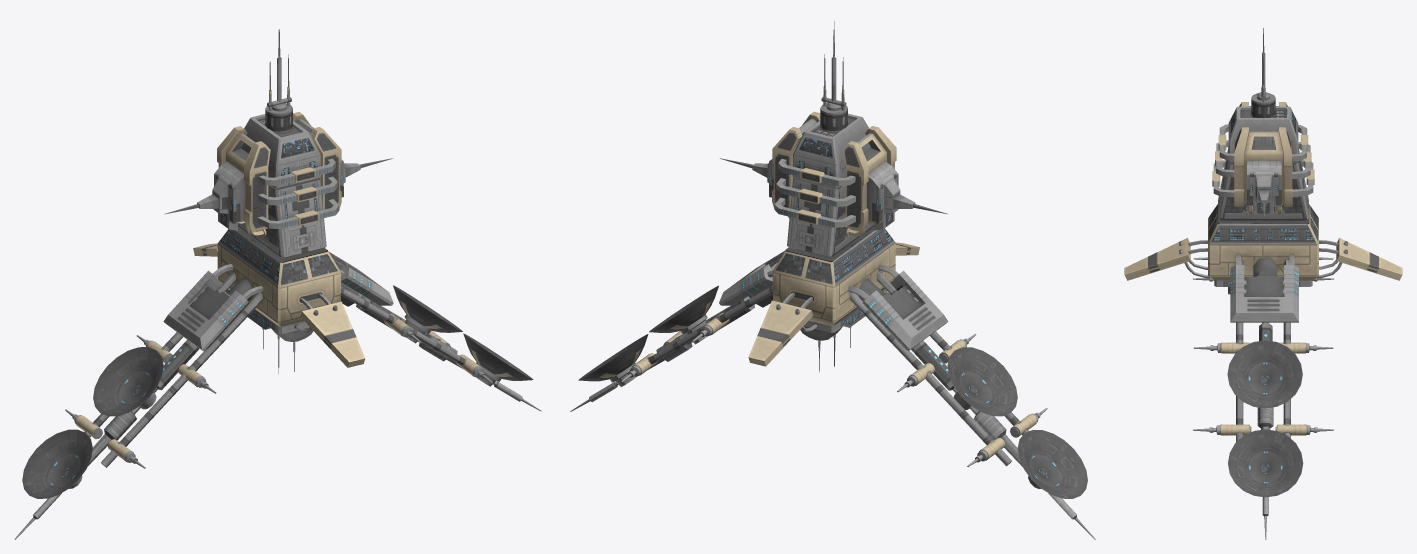
Rendered from 16222_lite.glb.
3 views of the same model, side by side, from view 1: azimuth 30°, elevation 25°; view 2: azimuth 150°, elevation 25°; view 3: azimuth 270°, elevation 25° (orthographic). The views are drawn at different scales.
Parts seen in each view (by area): view 1: ship; view 2: ship; view 3: ship.
Boxes of the visible parts, box(x1,y1,x2,y2) form: ship: box(14, 29, 541, 539); ship: box(570, 21, 1095, 539); ship: box(1124, 28, 1402, 539).
Size of the model in its own units: 5.28 by 4.43 by 2.71.
Materials: 1 (1 with a texture image).
